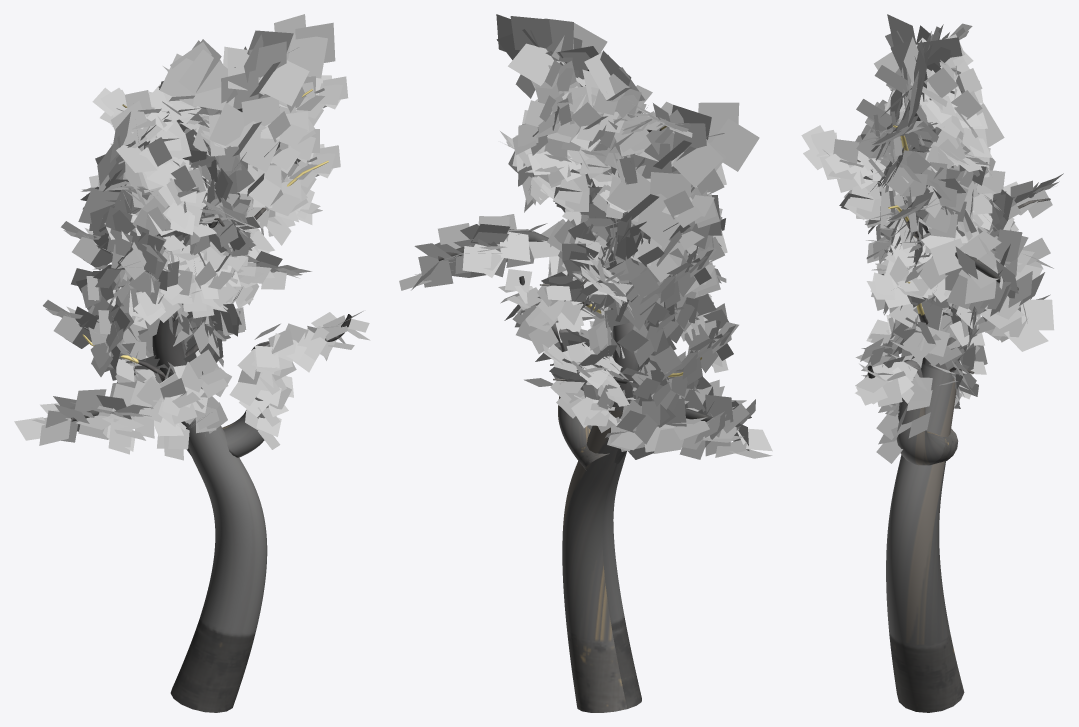
The model's file is arbre_orange_pivot1.fbx.
3 renders of one model, left to right at view 1: azimuth 30°, elevation 25°; view 2: azimuth 150°, elevation 25°; view 3: azimuth 270°, elevation 25°, orthographic. The views are drawn at different scales.
Visible parts, largest first — view 1: Arbre_orange_plane; view 2: Arbre_orange_plane; view 3: Arbre_orange_plane.
Boxes of the visible parts, <box> form: Arbre_orange_plane: <box>14,14,370,712</box>; Arbre_orange_plane: <box>399,14,772,712</box>; Arbre_orange_plane: <box>801,14,1063,712</box>.
Bounding box in the file's own units: 15.9 × 30.32 × 10.56.
